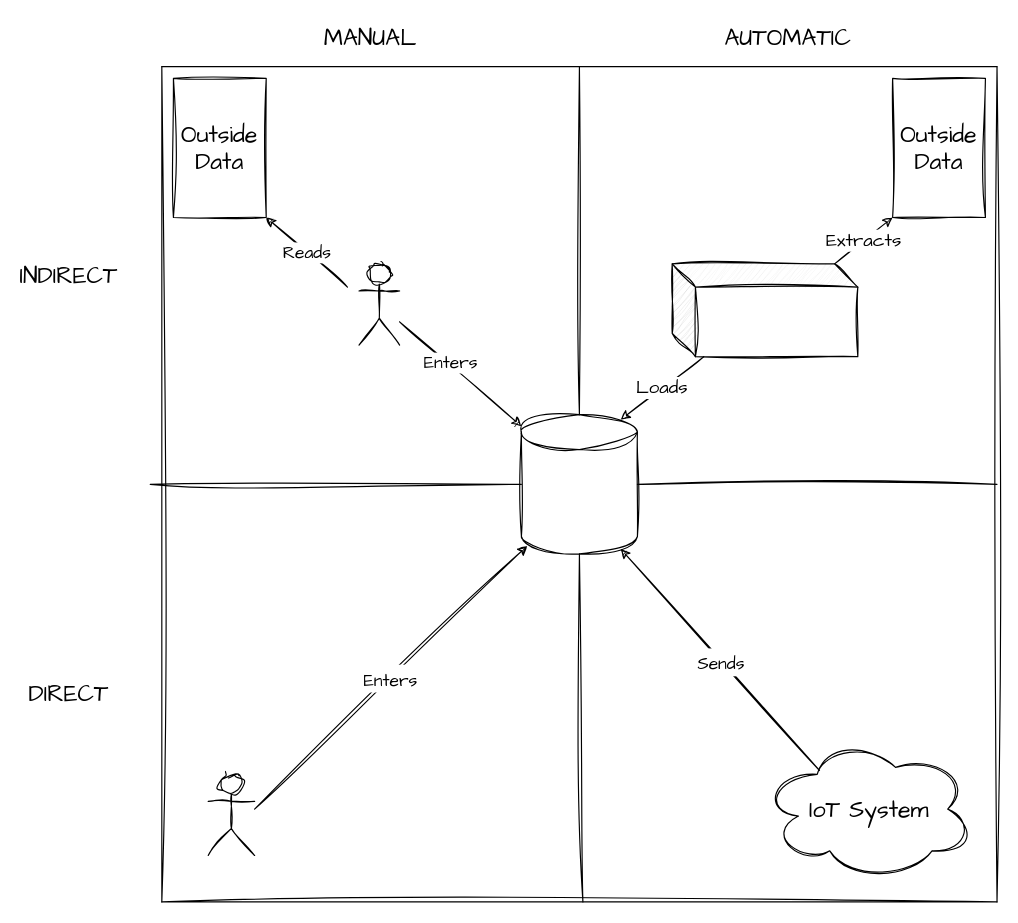
This 1018x923 diagram has some shape labels left out. Here are the shapes that lost their labels. From the top down, the centre of each, then its label:
At (764,310): "Data Transformer".
At (578,484): "Inside Data".
